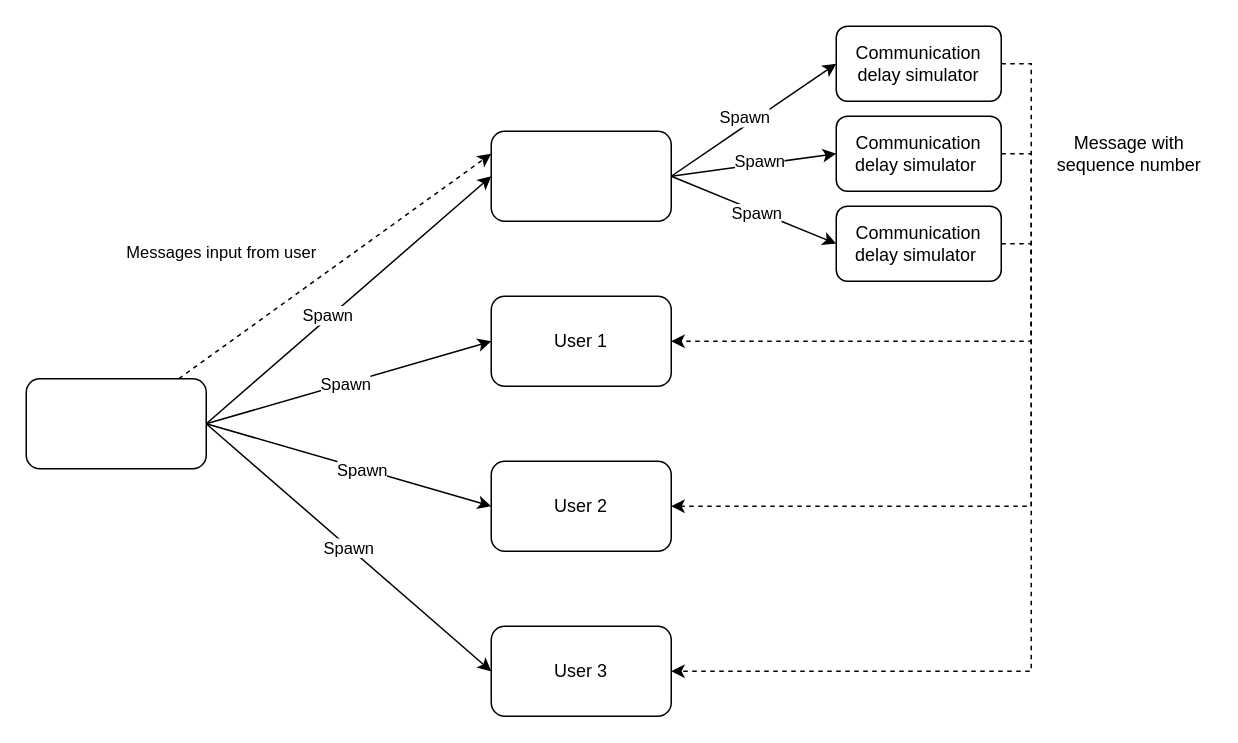
Image size: 1238x743. Some labels were removed from this diagram. Each missing label, with the centre of its shape:
Main Process: point (115, 423)
Sequencer: point (580, 175)
